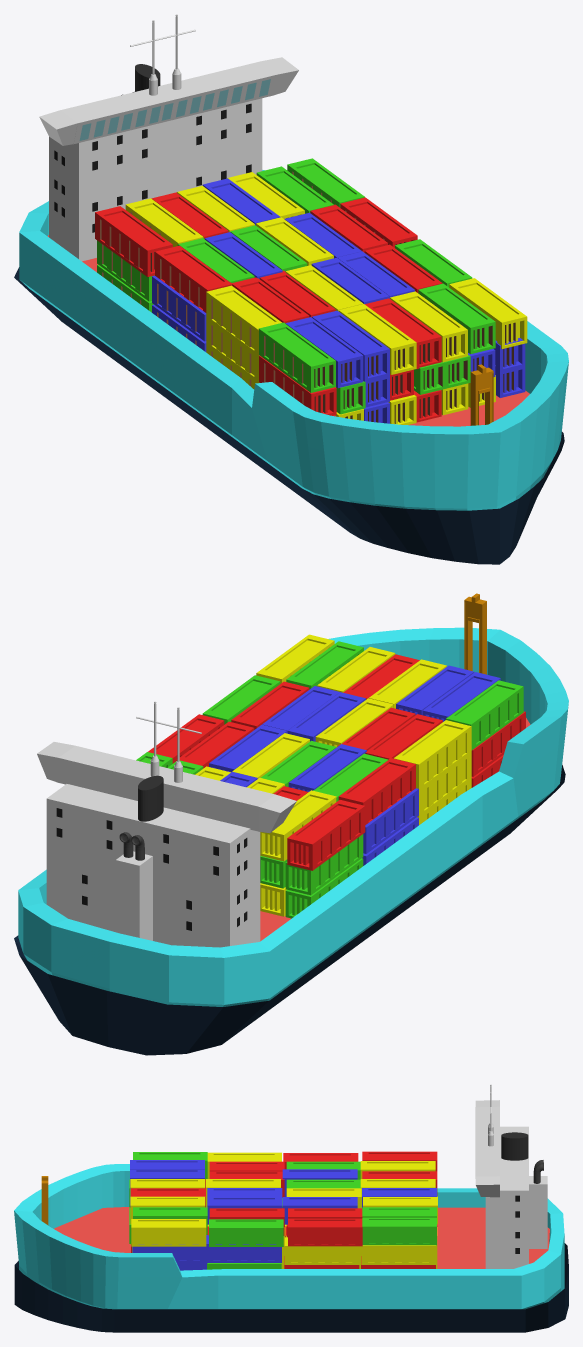
The model's file is cargo_ship.glb.
The picture shows the model from 3 angles, top to bottom: view 1: azimuth 30°, elevation 25°; view 2: azimuth 150°, elevation 25°; view 3: azimuth 270°, elevation 25°; orthographic projection. The views are drawn at different scales.
Parts seen in each view (by area): view 1: body, Cube, body.001, crate.067, crate.035, crate.032, crate.059, crate.068, crate.085, crate.084, crate.076, crate.086 (+38 smaller); view 2: body, Cube, body.001, crate.035, crate.032, crate.067, crate.059, crate.088, crate.013, crate.029, crate.068, crate.085 (+27 smaller); view 3: body, body.001, Cube, deck, crate.019, crate.058, crate.068, crate.056, crate.018, crate.017, crate.055, crate.073 (+31 smaller).
Boxes of the visible parts, <box> form: body: <box>19,170,568,510</box>; Cube: <box>39,57,298,261</box>; body.001: <box>14,267,564,564</box>; crate.067: <box>258,322,335,392</box>; crate.035: <box>95,206,172,276</box>; crate.032: <box>206,285,281,356</box>; crate.059: <box>155,245,232,312</box>; crate.068: <box>449,278,527,348</box>; crate.085: <box>418,283,495,354</box>; crate.084: <box>390,291,467,362</box>; crate.076: <box>338,304,416,374</box>; crate.086: <box>285,317,363,388</box>; body: <box>18,627,568,1006</box>; Cube: <box>37,742,296,947</box>; body.001: <box>14,765,565,1055</box>; crate.035: <box>287,800,365,870</box>; crate.032: <box>394,720,471,790</box>; crate.067: <box>446,680,523,750</box>; crate.059: <box>338,758,415,824</box>; crate.088: <box>260,790,336,861</box>; crate.013: <box>285,834,363,895</box>; crate.029: <box>363,788,418,853</box>; crate.068: <box>256,634,334,683</box>; crate.085: <box>286,641,363,689</box>; body: <box>14,1164,564,1309</box>; body.001: <box>14,1243,568,1332</box>; Cube: <box>475,1100,547,1268</box>; deck: <box>54,1207,549,1268</box>; crate.019: <box>362,1217,436,1245</box>; crate.058: <box>288,1218,362,1246</box>; crate.068: <box>131,1219,206,1246</box>; crate.056: <box>209,1219,283,1246</box>; crate.018: <box>361,1245,436,1264</box>; crate.017: <box>284,1237,359,1264</box>; crate.055: <box>207,1235,281,1262</box>; crate.073: <box>282,1197,357,1224</box>.
Bounding box in the file's own units: 1.67 × 1.87 × 4.2.
